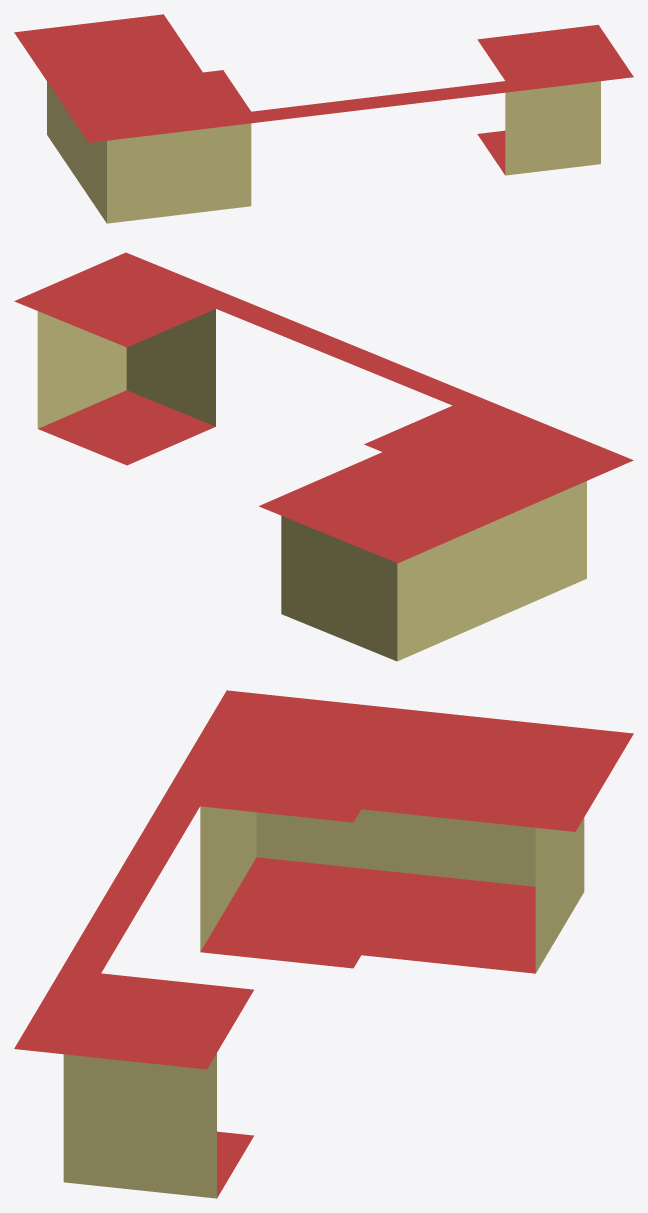
3 views of the same model, one above another, from view 1: azimuth 30°, elevation 25°; view 2: azimuth 150°, elevation 25°; view 3: azimuth 270°, elevation 25° (orthographic). The views are drawn at different scales.
Bounding box in the file's own units: 16.41 × 11.34 × 2.95.
